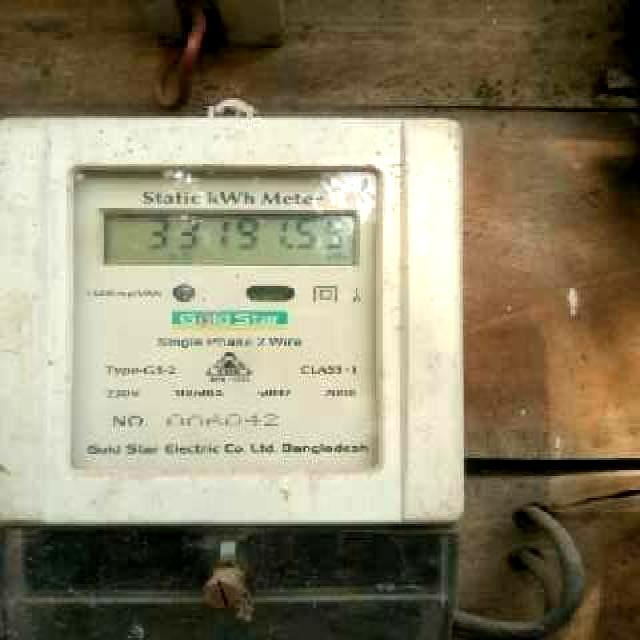LCD: (86, 198, 365, 274)
